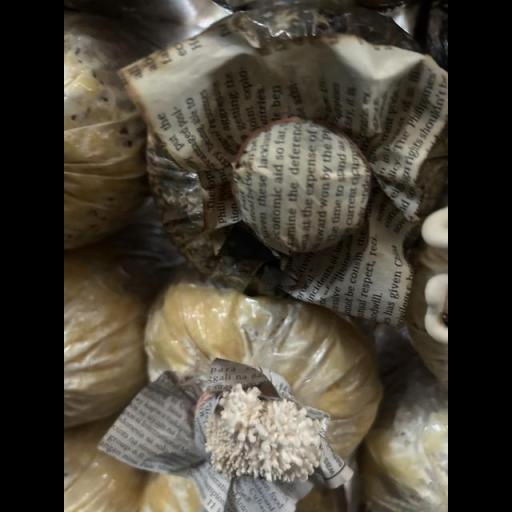White Oyster Mushroom: (190, 358, 343, 498)
